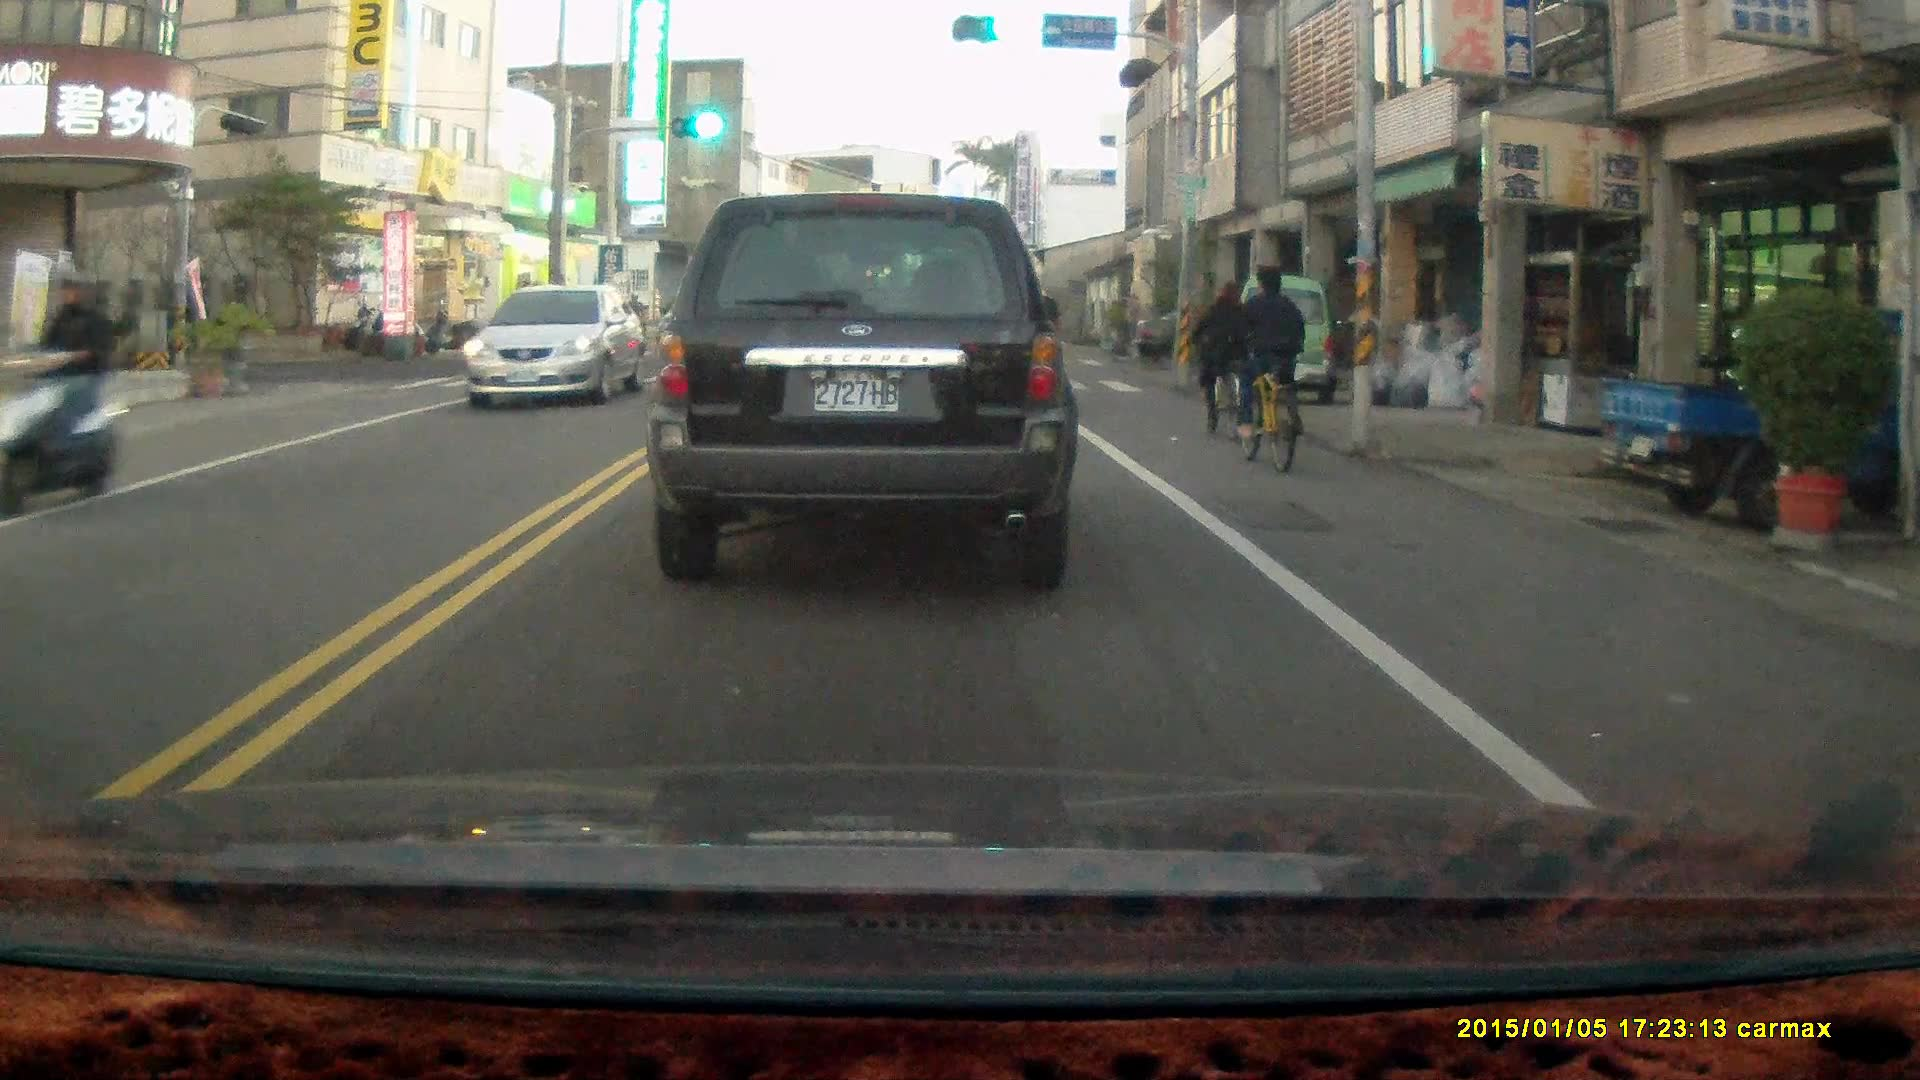rider: (0, 269, 125, 523), (1221, 264, 1306, 473), (1185, 278, 1253, 440), (120, 296, 189, 371)
vehicle: (656, 185, 1077, 582), (459, 284, 645, 409), (1229, 277, 1344, 398)
